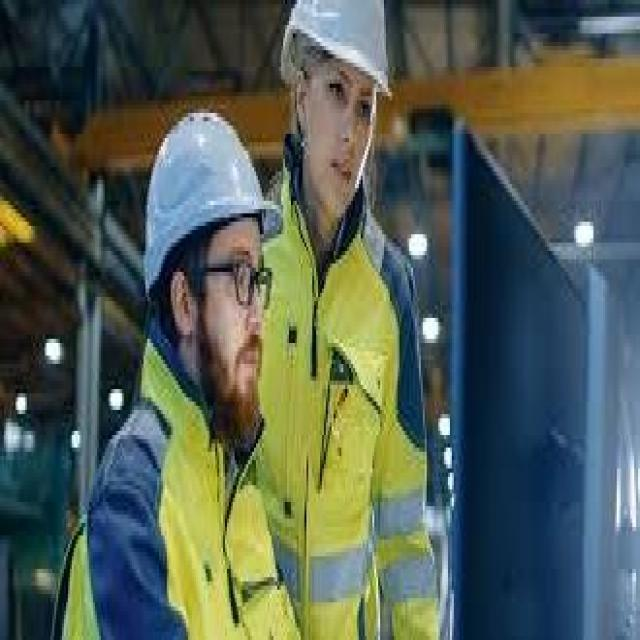Reflective-Jacket: (89, 200, 450, 632)
Safety-Helmet: (134, 100, 277, 293), (281, 0, 396, 109)
